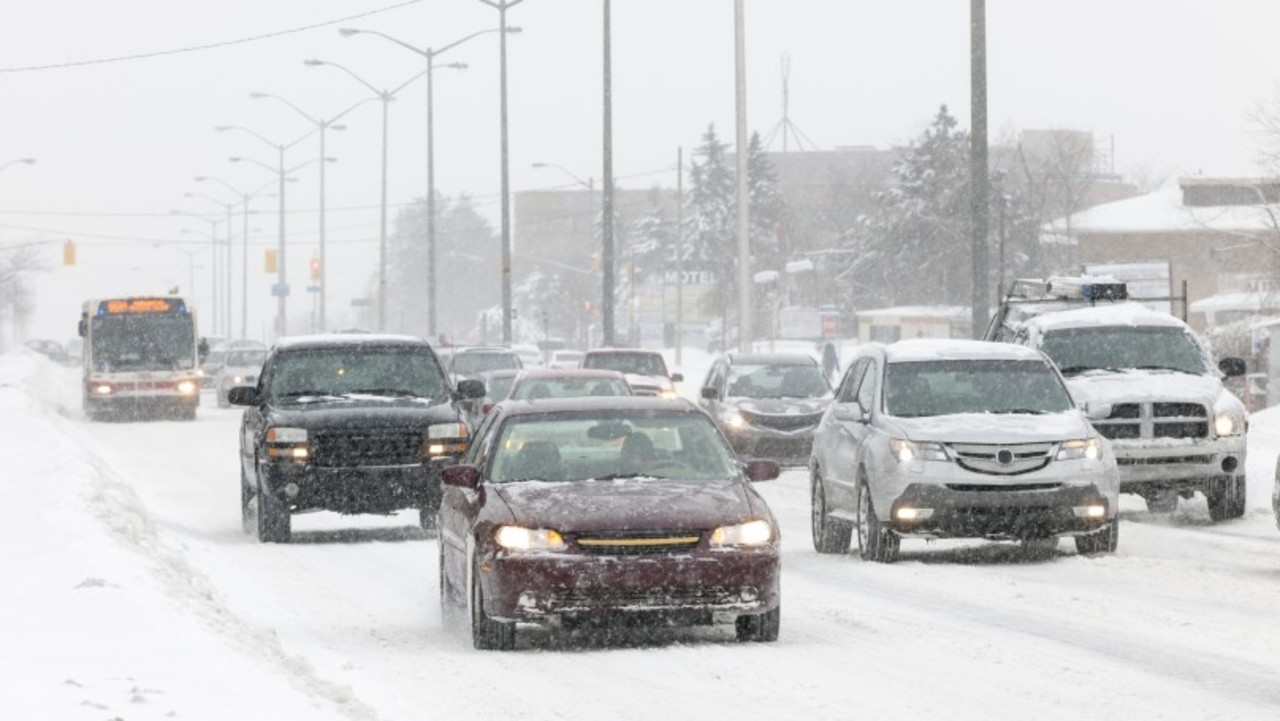bus: (79, 293, 205, 423)
car: (436, 386, 789, 651), (802, 336, 1119, 565), (234, 331, 466, 540), (1024, 307, 1256, 516), (692, 346, 837, 473), (442, 347, 530, 418), (578, 347, 680, 396), (506, 365, 630, 401), (207, 343, 272, 406), (24, 336, 71, 368)
